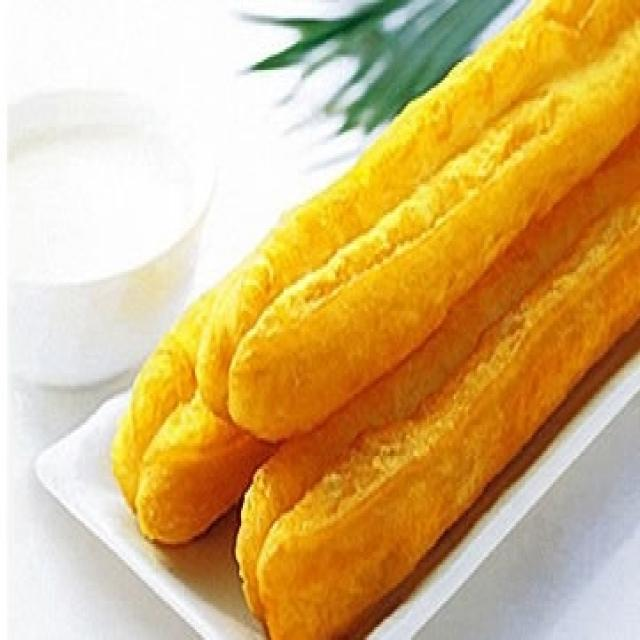炸货点心: (71, 18, 633, 606)
